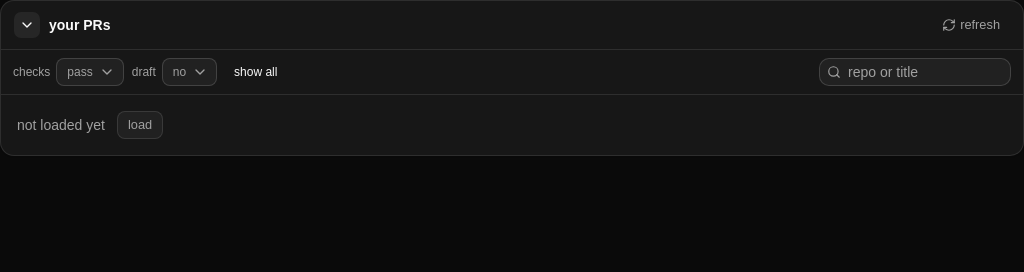
PrTable › offers to load a table that is not loaded yet
Click the button "load". click: (140, 125)
box: [117,111,163,139]
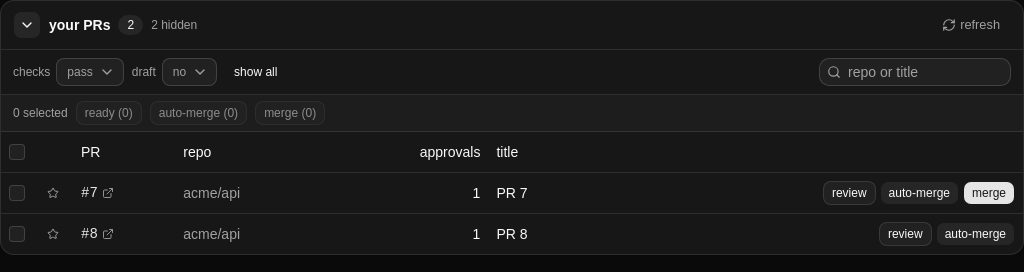
expect the text "PR 7" is shown: met, box [488,172,587,213]
